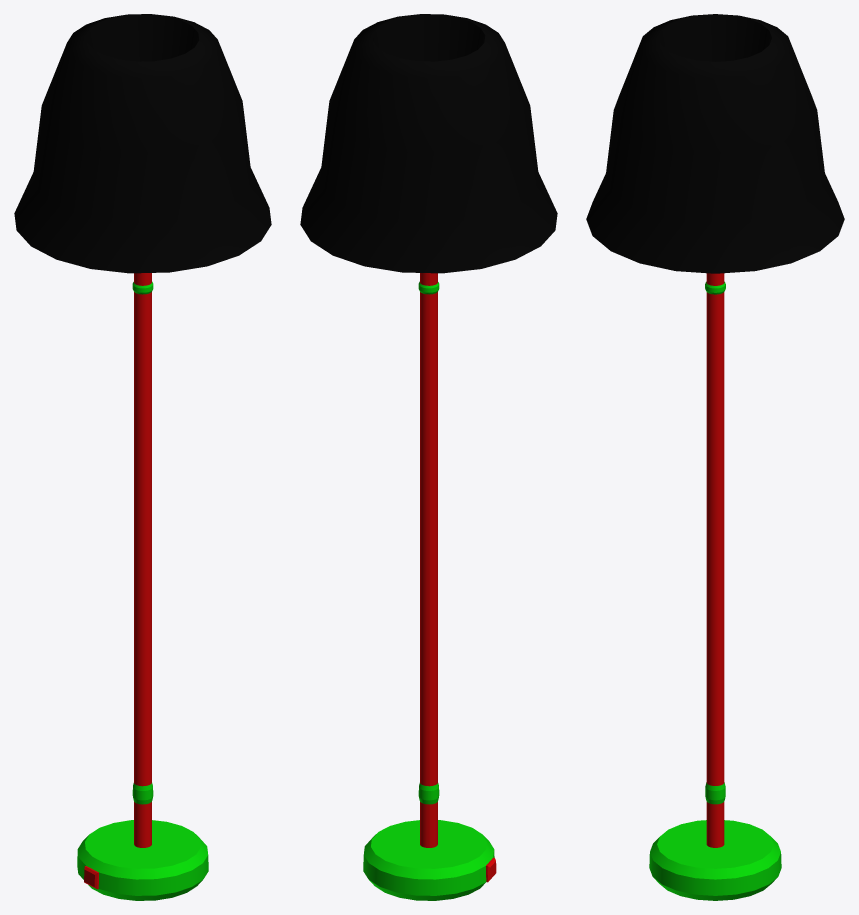
Rendered from staticMesh_light_Lamp_Blockout.fbx.
3 renders of one model, left to right at view 1: azimuth 30°, elevation 25°; view 2: azimuth 150°, elevation 25°; view 3: azimuth 270°, elevation 25°, orthographic.
Parts seen in each view (by area): view 1: pCylinder4; view 2: pCylinder4; view 3: pCylinder4.
Boxes of the visible parts, box(x1,y1,x2,y2) form: pCylinder4: box(14, 14, 271, 900); pCylinder4: box(300, 14, 557, 900); pCylinder4: box(586, 14, 844, 900).
Size of the model in its own units: 57.06 by 204 by 57.06.
